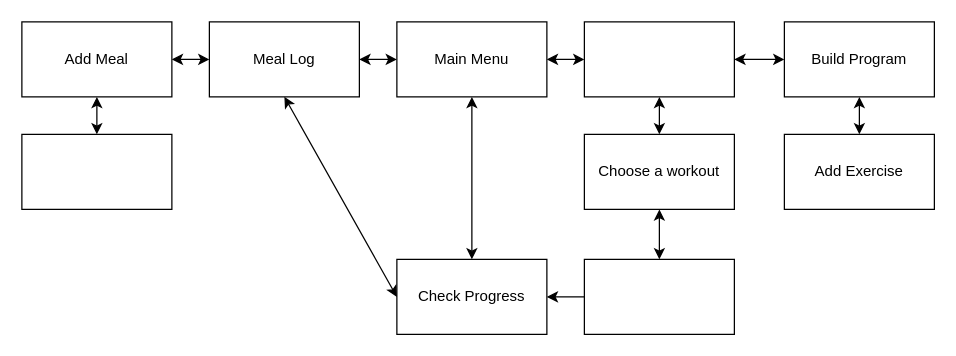
This 956x356 diagram has some shape labels left out. Each missing label, with the box of its shape:
Add food to Meal: (21, 133, 172, 209)
Select Program: (583, 21, 734, 97)
Workout Tracker: (583, 258, 734, 334)
